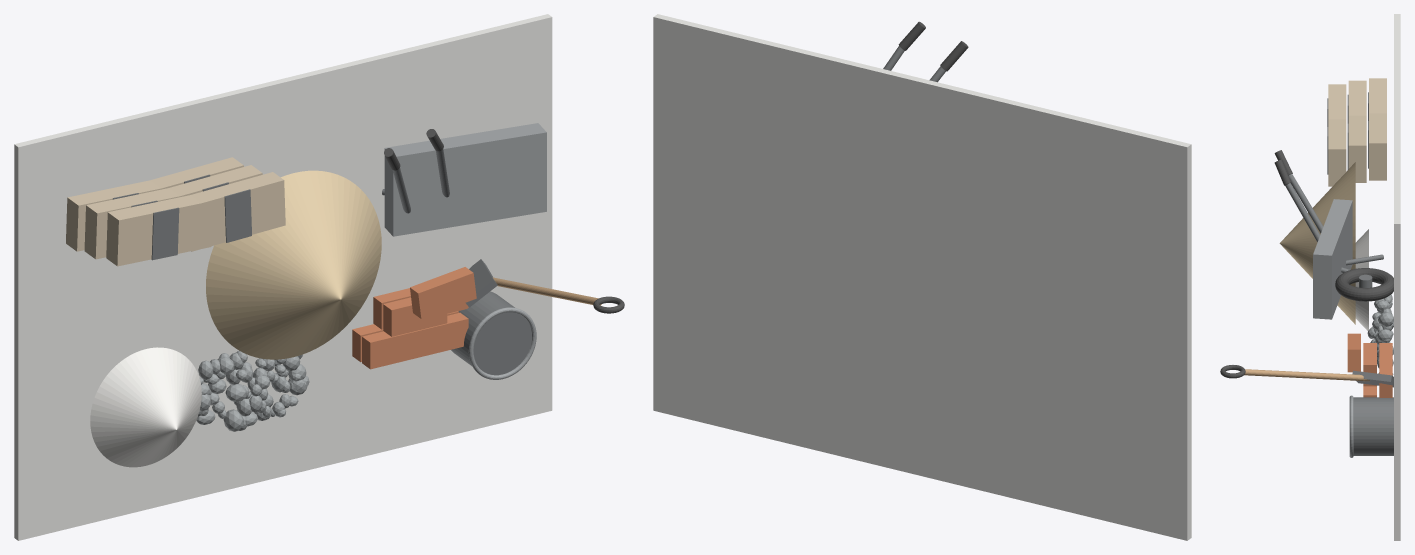
3 views of the same model, side by side, from view 1: azimuth 30°, elevation 25°; view 2: azimuth 150°, elevation 25°; view 3: azimuth 270°, elevation 25° (orthographic). The views are drawn at different scales.
Parts seen in each view (by area): view 1: Base, Monton_Arena, Carretilla_Batea, Monton_Cal, Bolsa_Cemento_5, Balde, Bolsa_Cemento_6, Ladrillo_8, Bolsa_Cemento_3, Ladrillo_5, Bolsa_Cemento_1, Ladrillo_6 (+7 smaller); view 2: Base; view 3: Base, Carretilla_Batea, Monton_Arena, Balde, Carretilla_Rueda, Bolsa_Cemento_2, Bolsa_Cemento_6, Bolsa_Cemento_4, Pala_Mango, Monton_Cal, Bolsa_Cemento_3, Bolsa_Cemento_5 (+10 smaller).
Part boxes in pixels (box(x1,y1,x2,y2)): Base: box(14, 14, 552, 540); Monton_Arena: box(206, 170, 381, 359); Carretilla_Batea: box(384, 123, 546, 236); Monton_Cal: box(90, 347, 201, 467); Bolsa_Cemento_5: box(106, 195, 212, 266); Balde: box(451, 291, 531, 375); Bolsa_Cemento_6: box(190, 172, 285, 251); Ladrillo_8: box(410, 267, 476, 318); Bolsa_Cemento_3: box(84, 188, 190, 259); Ladrillo_5: box(362, 328, 426, 369); Bolsa_Cemento_1: box(66, 180, 172, 251); Ladrillo_6: box(413, 312, 468, 358); Base: box(653, 14, 1191, 540); Base: box(1394, 14, 1400, 540); Carretilla_Batea: box(1313, 199, 1352, 319); Monton_Arena: box(1279, 162, 1355, 324); Balde: box(1353, 397, 1393, 455); Carretilla_Rueda: box(1335, 268, 1393, 301); Bolsa_Cemento_2: box(1369, 113, 1386, 180); Bolsa_Cemento_6: box(1328, 119, 1346, 186); Bolsa_Cemento_4: box(1348, 115, 1366, 182); Pala_Mango: box(1244, 369, 1369, 381); Monton_Cal: box(1355, 229, 1368, 330); Bolsa_Cemento_3: box(1348, 80, 1366, 115); Bolsa_Cemento_5: box(1328, 84, 1346, 119).
Size of the model in its own units: 8.8 by 6.2 by 3.19.
